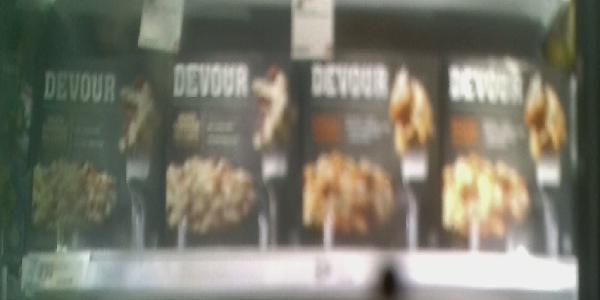pizza1: (441, 56, 579, 254), (300, 54, 438, 246), (162, 54, 297, 246), (35, 62, 162, 243)
